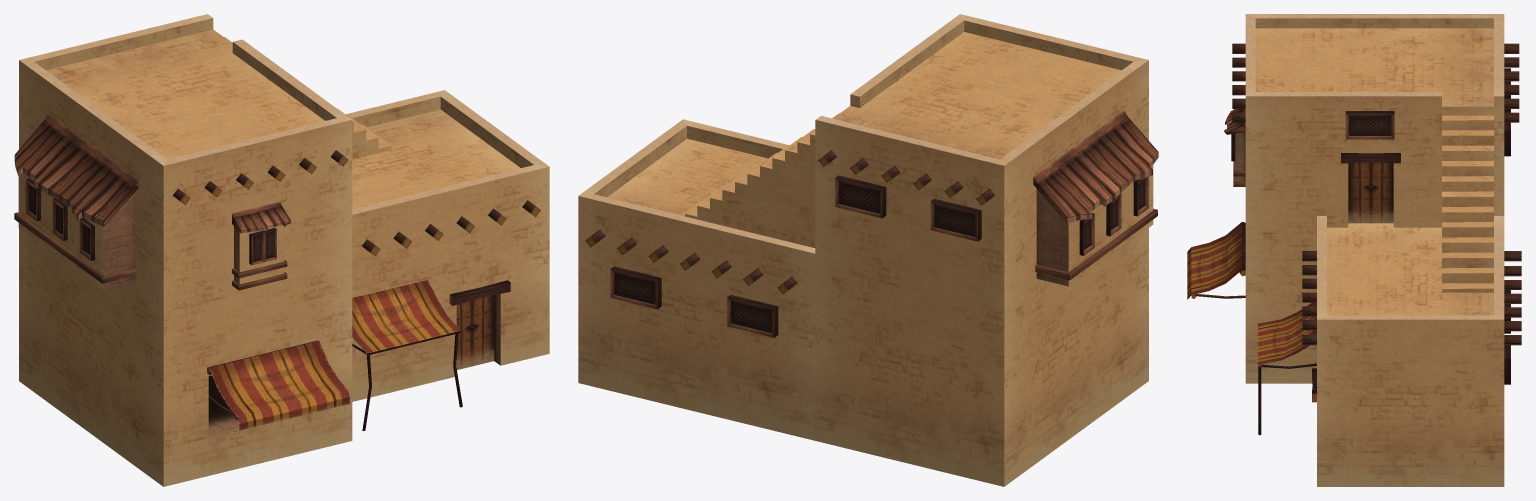
The model's file is House_04.fbx.
The picture shows the model from 3 angles, left to right: view 1: azimuth 30°, elevation 25°; view 2: azimuth 150°, elevation 25°; view 3: azimuth 270°, elevation 25°; orthographic projection. The views are drawn at different scales.
Visible parts, largest first — view 1: House_04; view 2: House_04; view 3: House_04.
Boxes of the visible parts, box(x1,y1,x2,y2) form: House_04: box(14, 14, 549, 486); House_04: box(578, 14, 1158, 486); House_04: box(1187, 14, 1521, 486).
Size of the model in its own units: 2.47 by 1.61 by 1.7.
